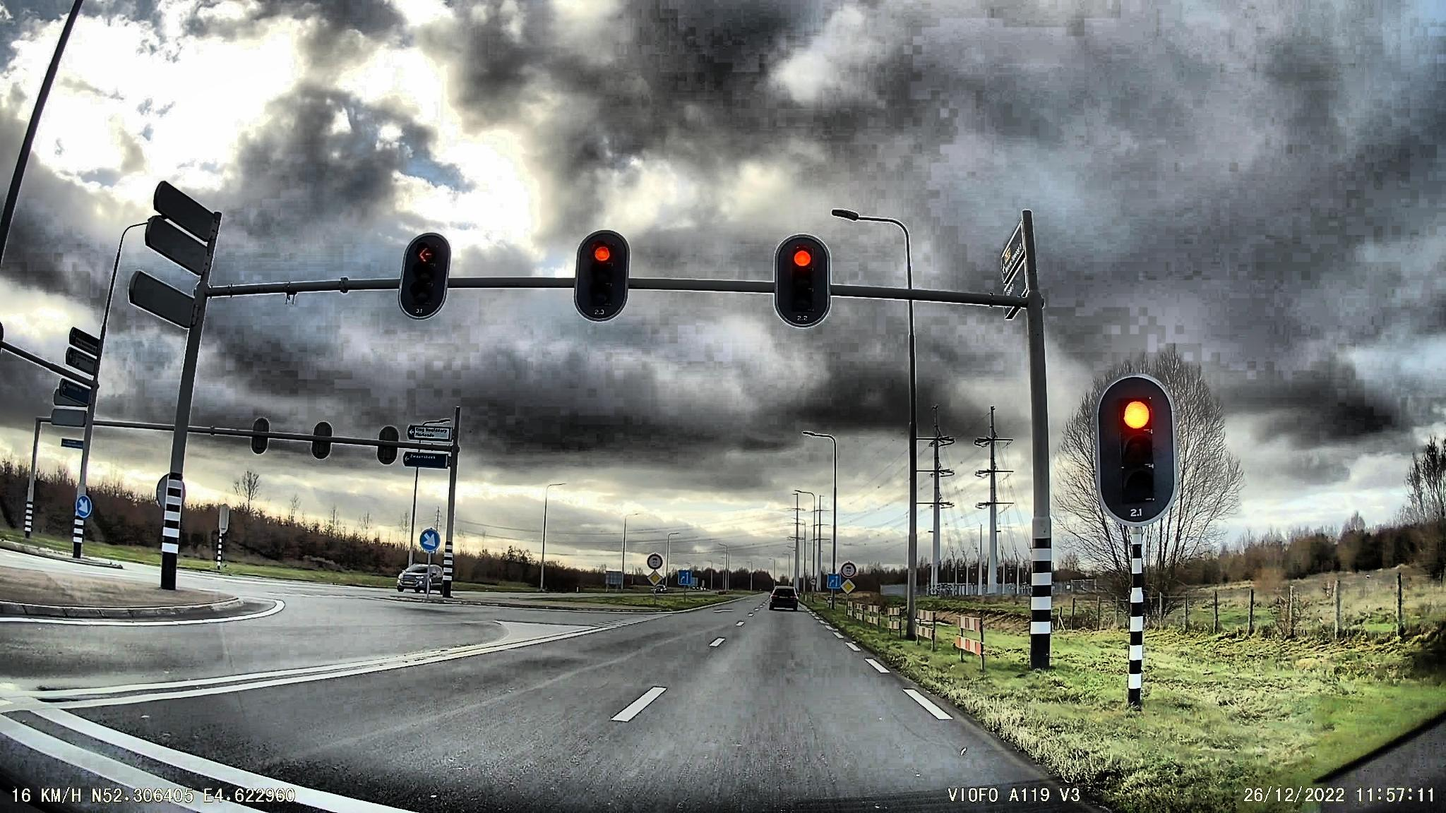Roads: (0, 572, 1089, 813)
